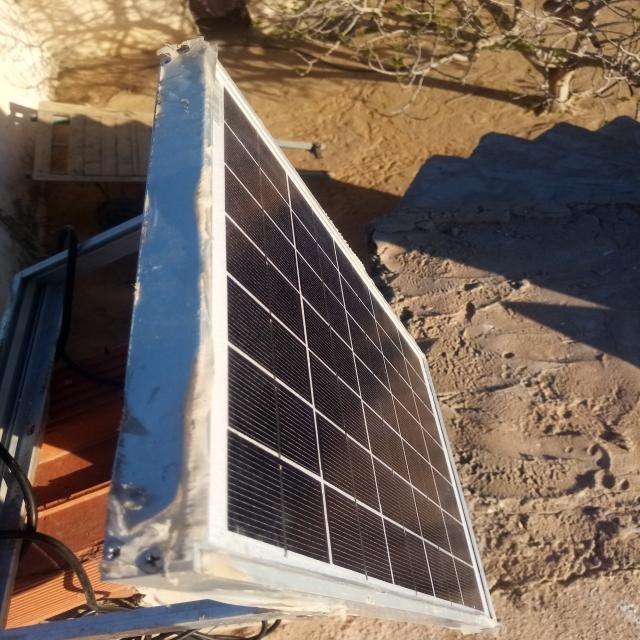no faulty: (197, 55, 494, 618)
